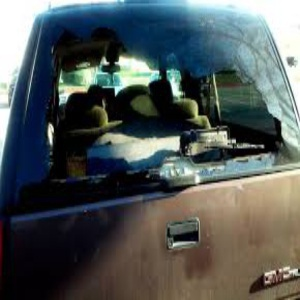rear_windshield_glass: (44, 23, 286, 177)
